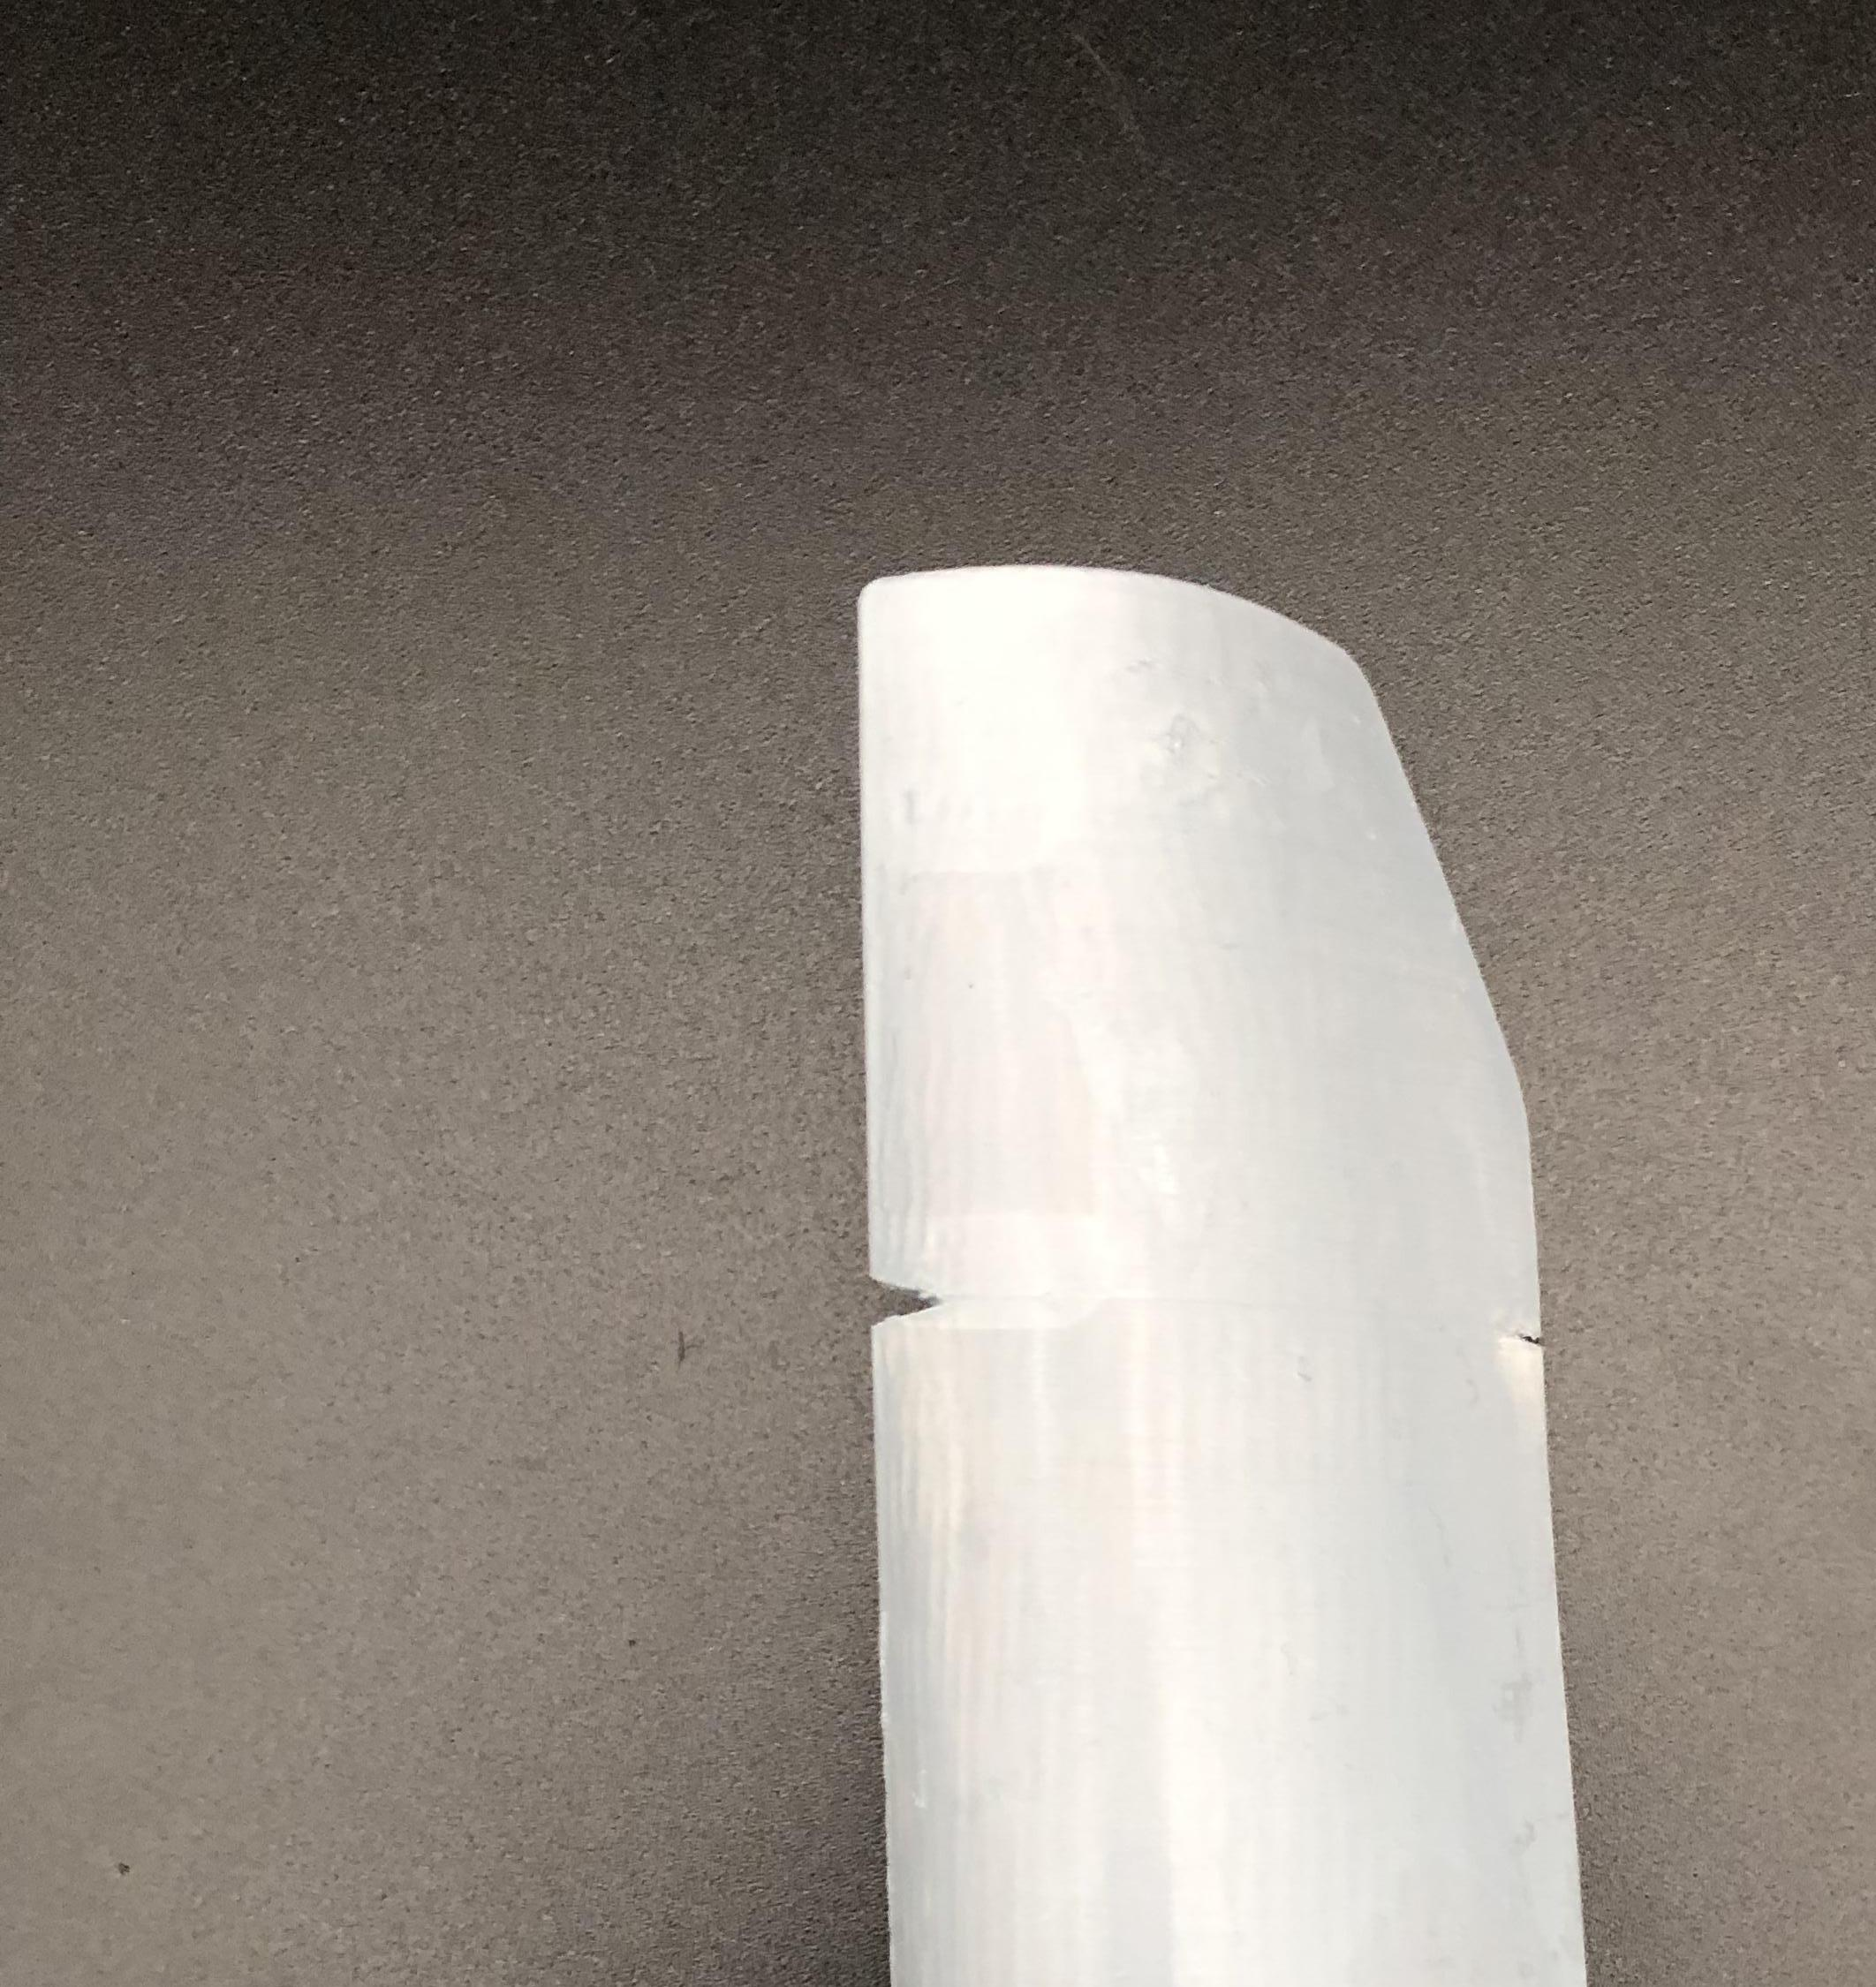groove: (862, 1266, 957, 1336), (1508, 1310, 1548, 1361)
